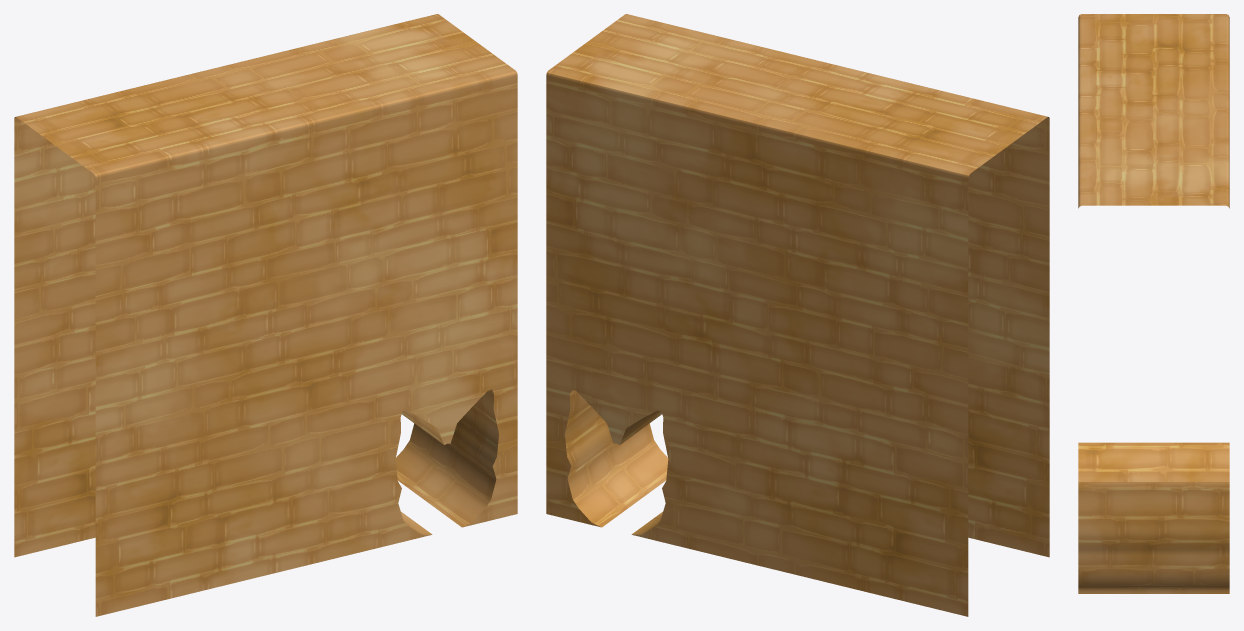
File: SM_Env_Wall_CatHole_Right.fbx
The picture shows the model from 3 angles, left to right: view 1: azimuth 30°, elevation 25°; view 2: azimuth 150°, elevation 25°; view 3: azimuth 270°, elevation 25°; orthographic projection. The views are drawn at different scales.
Visible parts, largest first — view 1: Wall_CatHole_Right; view 2: Wall_CatHole_Right; view 3: Wall_CatHole_Right.
Part boxes in pixels (<box>): Wall_CatHole_Right: <box>14,14,517,616</box>; Wall_CatHole_Right: <box>546,14,1049,616</box>; Wall_CatHole_Right: <box>1078,14,1229,593</box>.
Size of the model in its own units: 300 by 300 by 100.
Materials: 1 (1 with a texture image).
